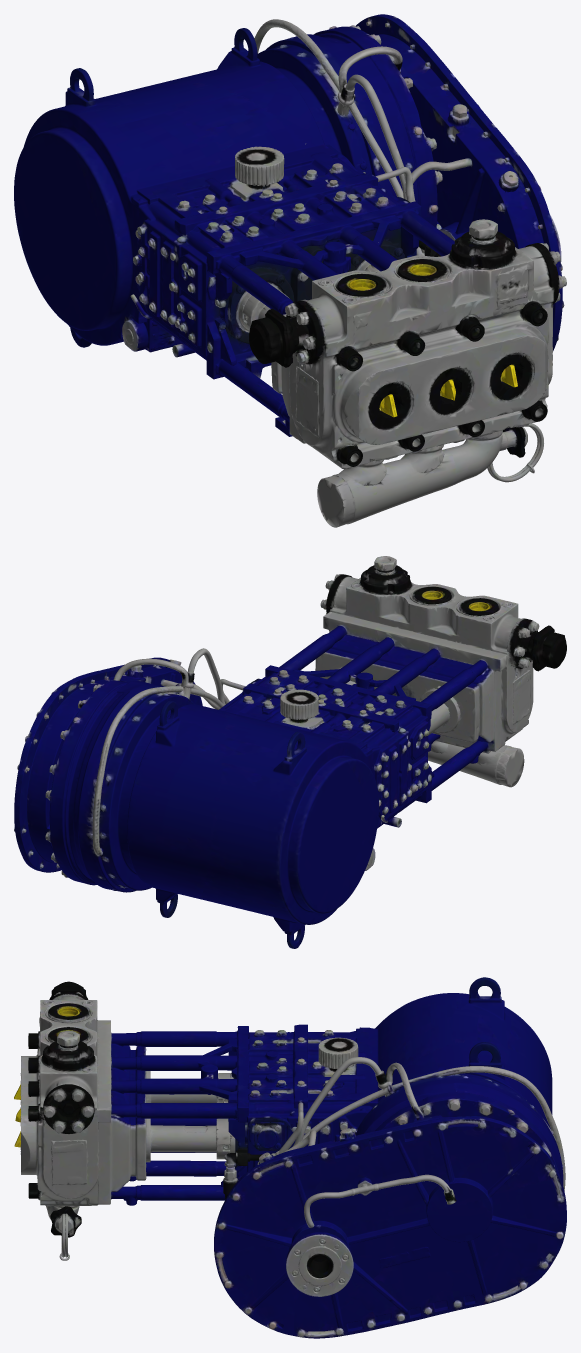
Rendered from BombaEmboloTriplex.glb.
3 views of the same model, one above another, from view 1: azimuth 30°, elevation 25°; view 2: azimuth 150°, elevation 25°; view 3: azimuth 270°, elevation 25° (orthographic). The views are drawn at different scales.
Parts seen in each view (by area): view 1: tripo_node_cd10a2b6-2660-48db-b90d-860ca10b4837; view 2: tripo_node_cd10a2b6-2660-48db-b90d-860ca10b4837; view 3: tripo_node_cd10a2b6-2660-48db-b90d-860ca10b4837.
Part boxes in pixels (bbox=[...]): tripo_node_cd10a2b6-2660-48db-b90d-860ca10b4837: bbox=[14, 14, 566, 527]; tripo_node_cd10a2b6-2660-48db-b90d-860ca10b4837: bbox=[14, 556, 566, 948]; tripo_node_cd10a2b6-2660-48db-b90d-860ca10b4837: bbox=[14, 977, 566, 1338].
Bounding box in the file's own units: 0.7271 × 0.479 × 0.9798.
1 material, 1 textured.
